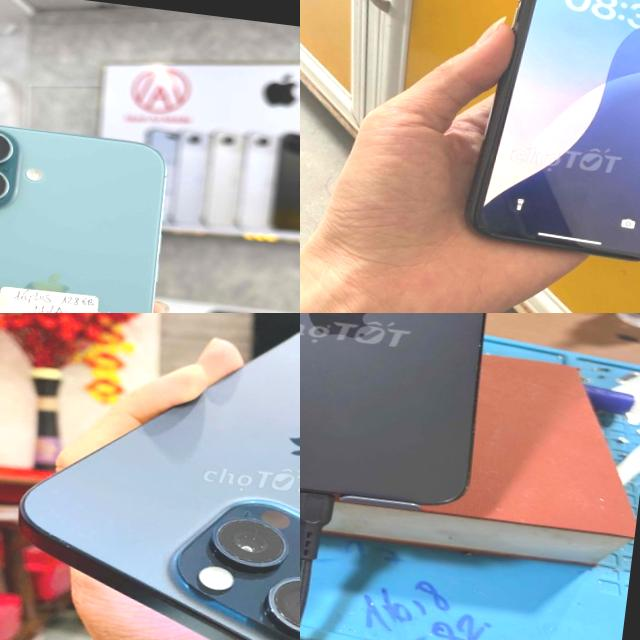scratch: (200, 504, 300, 640), (474, 217, 493, 235)
